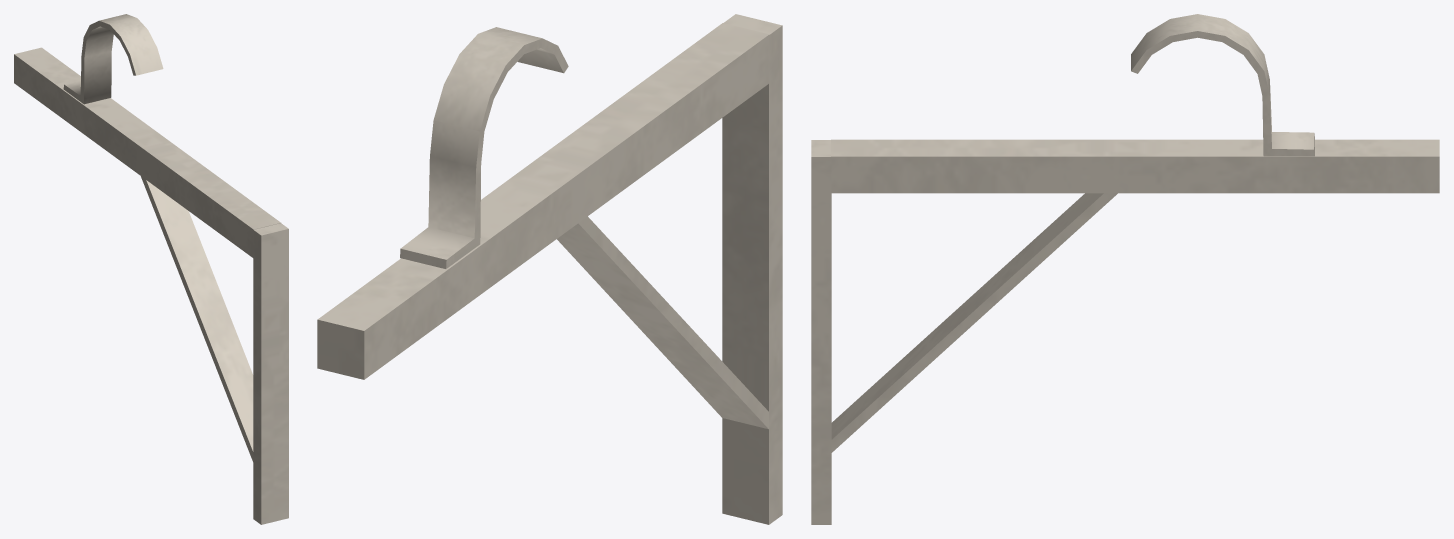
The model's file is angle support.fbx.
3 views of the same model, side by side, from view 1: azimuth 30°, elevation 25°; view 2: azimuth 150°, elevation 25°; view 3: azimuth 270°, elevation 25° (orthographic). The views are drawn at different scales.
Parts seen in each view (by area): view 1: support, horiz_bar, Clamp; view 2: horiz_bar, support, Clamp; view 3: horiz_bar, support, Clamp.
Boxes of the visible parts, x1,y1,x2,y2 form: support: [141, 176, 288, 524]; horiz_bar: [14, 47, 280, 257]; Clamp: [63, 14, 163, 104]; horiz_bar: [317, 23, 769, 379]; support: [557, 14, 782, 524]; Clamp: [400, 27, 568, 268]; horiz_bar: [831, 139, 1439, 193]; support: [811, 140, 1117, 524]; Clamp: [1131, 14, 1314, 156].
Size of the model in its own units: 0.1013 by 1.34 by 1.55.
